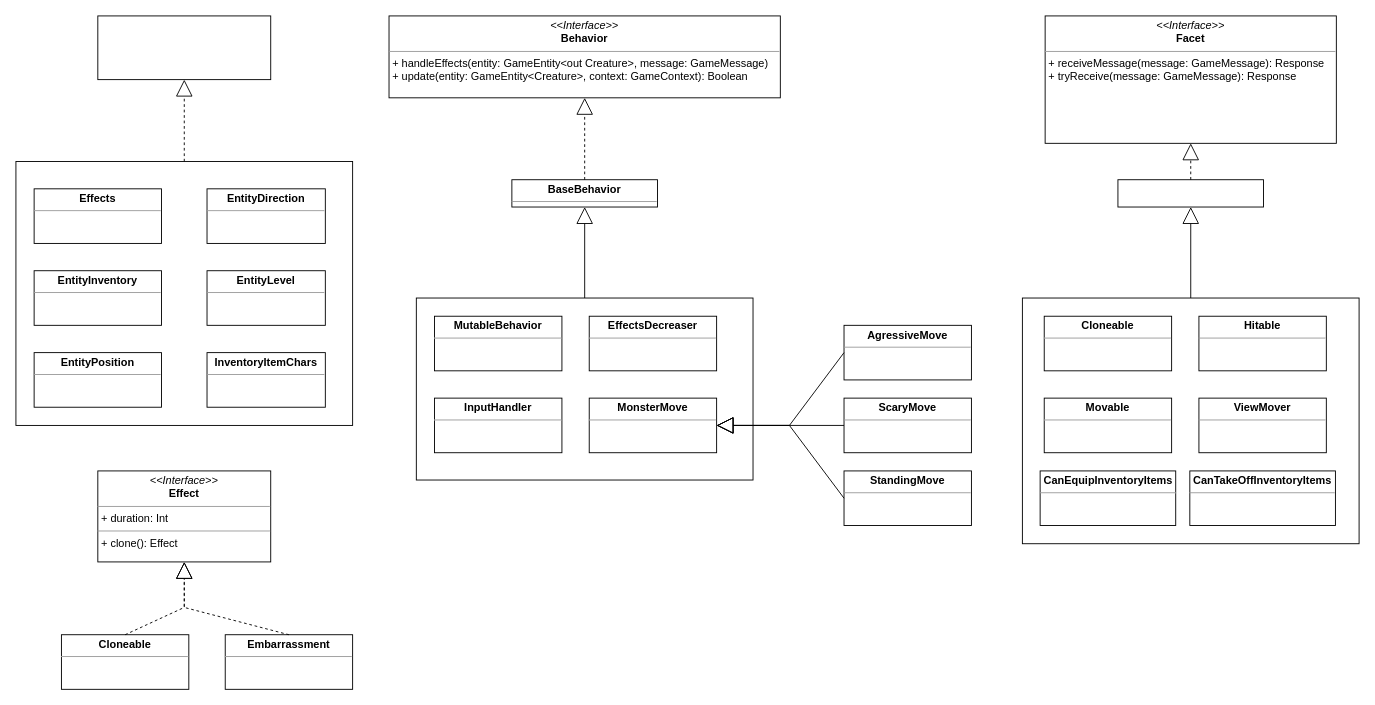
The diagram is 1375 pixels wide and 705 high, and some of its shapes have lost their labels. Here are the shapes that lost their labels. From the top down, the centre of each, then its label:
(x=184, y=47): <<Interface>> Attribute + clone(): Attribute
(x=1190, y=193): BaseFacet
